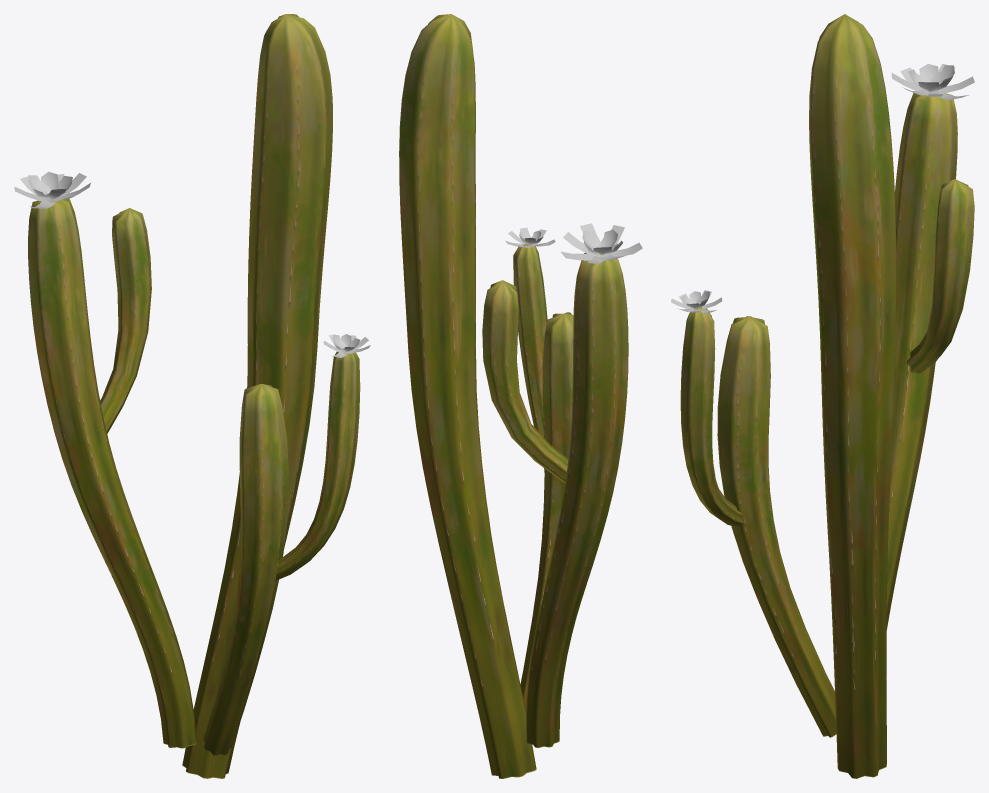
The model's file is SM_Cactus07.fbx.
The picture shows the model from 3 angles, left to right: view 1: azimuth 30°, elevation 25°; view 2: azimuth 150°, elevation 25°; view 3: azimuth 270°, elevation 25°; orthographic projection. The views are drawn at different scales.
Visible parts, largest first — view 1: SM_Cactus07; view 2: SM_Cactus07; view 3: SM_Cactus07.
Boxes of the visible parts, x1,y1,x2,y2 form: SM_Cactus07: (14, 14, 370, 778); SM_Cactus07: (399, 14, 642, 778); SM_Cactus07: (671, 14, 974, 778).
Size of the model in its own units: 328 by 872 by 303.
